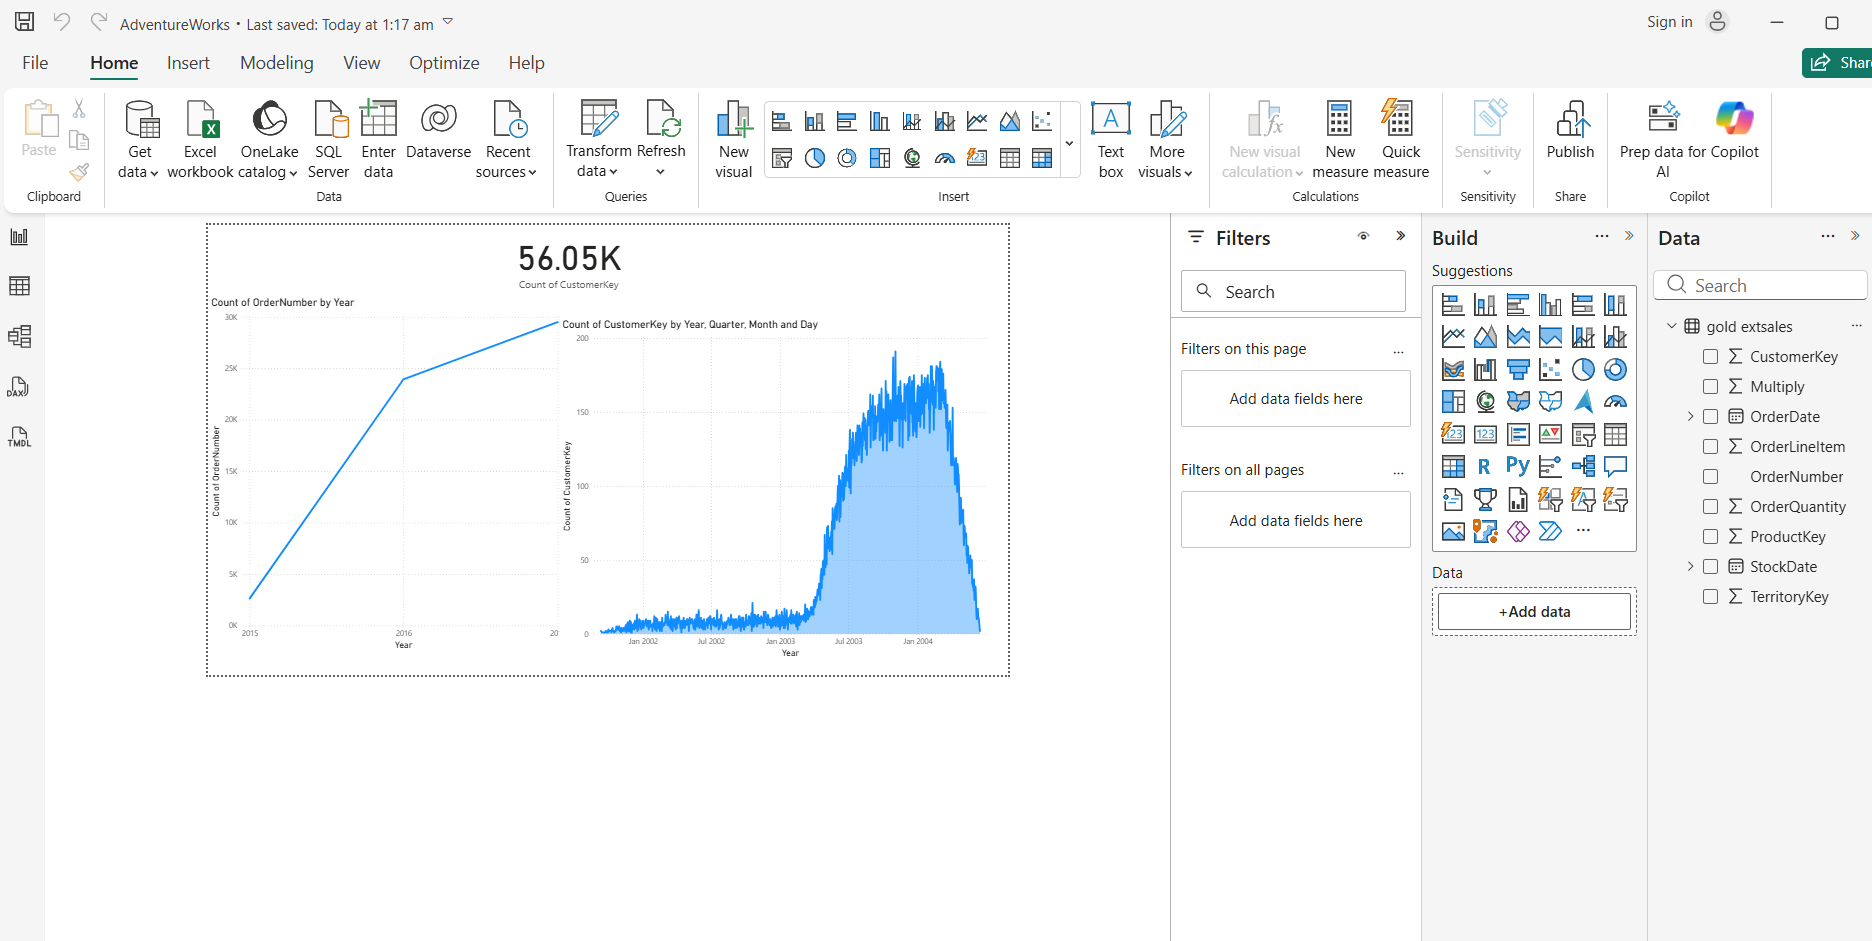

The page's visual inventory and layout, read from the dashboard file:
{"tool":"powerbi","page":{"name":"Page 1","canvas":[1280,720],"ordinal":0},"visuals":[{"type":"lineChart","fields":{"Category":["gold extsales.OrderDate.Variation.Date Hierarchy.Year","gold extsales.OrderDate.Variation.Date Hierarchy.Quarter","gold extsales.OrderDate.Variation.Date Hierarchy.Month","gold extsales.OrderDate.Variation.Date Hierarchy.Day"],"Y":["CountNonNull(gold extsales.OrderNumber)"]},"box":[40,322,600,334],"z":0},{"type":"card","title":"Total customers","fields":{"Values":["CountNonNull(gold extsales.CustomerKey)"]},"box":[470,46,392,222],"z":1000},{"type":"areaChart","fields":{"Category":["gold extsales.StockDate.Variation.Date Hierarchy.Year","gold extsales.StockDate.Variation.Date Hierarchy.Quarter","gold extsales.StockDate.Variation.Date Hierarchy.Month","gold extsales.StockDate.Variation.Date Hierarchy.Day"],"Y":["CountNonNull(gold extsales.CustomerKey)"]},"box":[666,322,598,376],"z":1001}]}

Visuals, with their boxes on the page's 1280x720 design canvas (x1, y1, x2, y2). These are canvas units, not pixel positions in the 1872x941 screenshot, which may show the page scaled, cropped or inside an application window:
lineChart - gold extsales.OrderDate.Variation.Date Hierarchy.Year x gold extsales.OrderDate.Variation.Date Hierarchy.Quarter: crop(40, 322, 640, 656)
"Total customers" card: crop(470, 46, 862, 268)
areaChart - gold extsales.StockDate.Variation.Date Hierarchy.Year x gold extsales.StockDate.Variation.Date Hierarchy.Quarter: crop(666, 322, 1264, 698)
